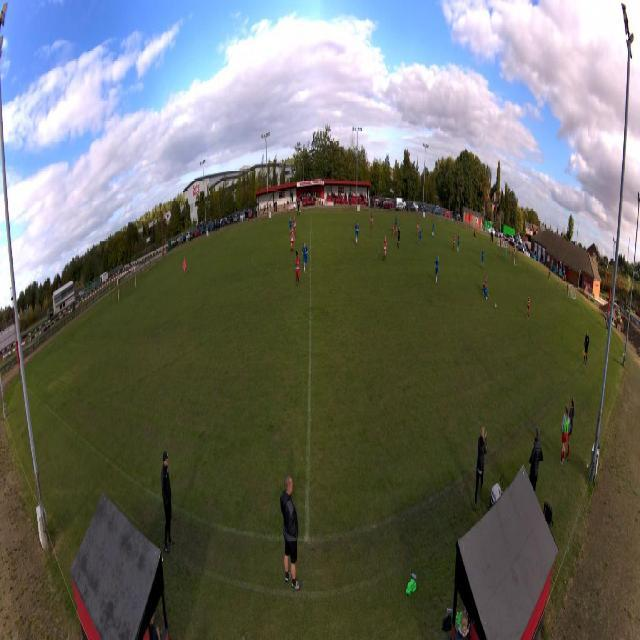ball: (495, 303, 497, 309)
player: (302, 241, 309, 277), (294, 250, 300, 286), (290, 226, 296, 256), (435, 255, 440, 286), (482, 275, 488, 295), (483, 282, 489, 301), (355, 221, 359, 248), (383, 235, 387, 262), (397, 225, 401, 252), (526, 293, 530, 320), (481, 245, 485, 269), (293, 216, 297, 237), (392, 225, 398, 239), (183, 256, 187, 277), (370, 211, 374, 231), (456, 233, 460, 253), (452, 232, 456, 251), (504, 246, 508, 265), (416, 218, 420, 236), (289, 217, 293, 233), (419, 226, 422, 246), (432, 220, 435, 238), (395, 214, 398, 231)
